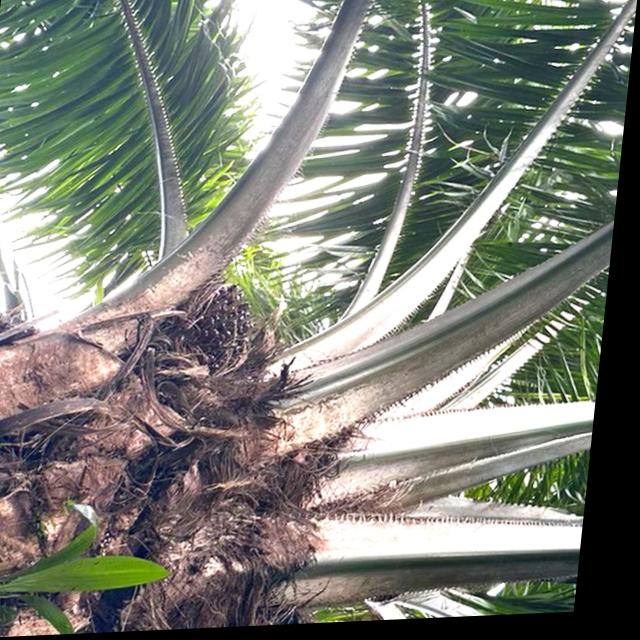almost: (160, 267, 275, 391)
